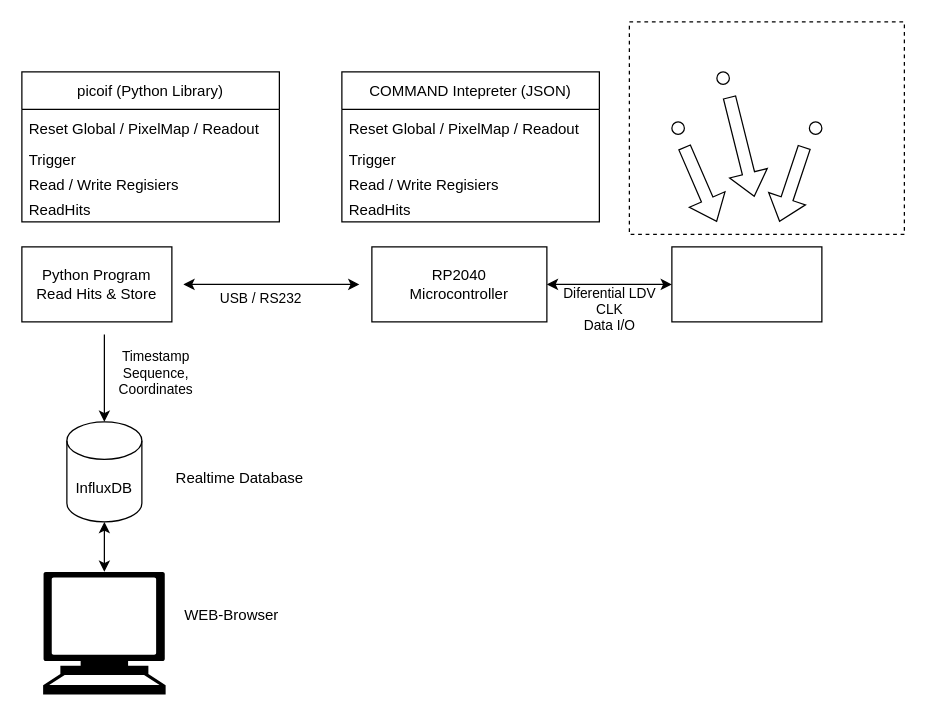
The diagram is 926 pixels wide and 716 high, and some of its shapes have lost their labels. The box of each missing label's shape, as (x1, y1, x2, y2) in pixels:
ALPIDE Particle Detector IC: (671, 246, 822, 322)
Cosmic Particles hiting the ALPIDE: (628, 21, 904, 234)
